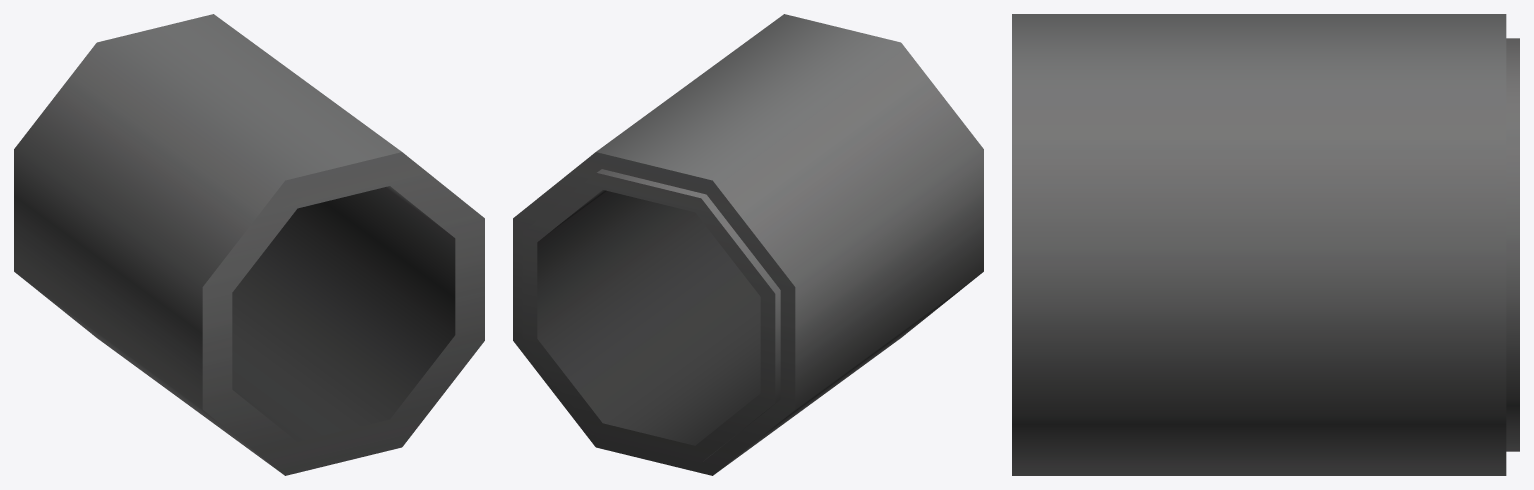
Rendered from Pipe_C_4_1.glb.
3 views of the same model, side by side, from view 1: azimuth 30°, elevation 25°; view 2: azimuth 150°, elevation 25°; view 3: azimuth 270°, elevation 25° (orthographic). The views are drawn at different scales.
Parts seen in each view (by area): view 1: Pipe_C_4_1; view 2: Pipe_C_4_1; view 3: Pipe_C_4_1.
Part boxes in pixels (x1,y1,x2,y2): Pipe_C_4_1: (14,14,484,475); Pipe_C_4_1: (513,14,983,475); Pipe_C_4_1: (1012,14,1519,475).
Size of the model in its own units: 1.14 by 1.14 by 1.36.
Materials: 1 (1 with a texture image).
